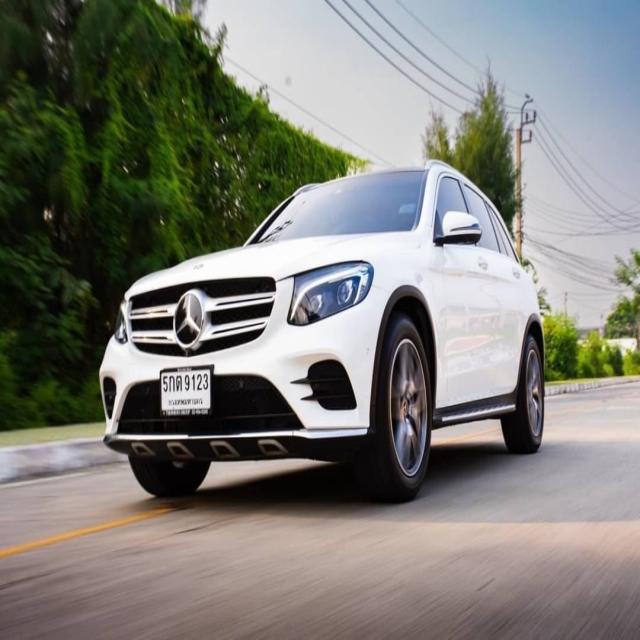license_plate: (159, 361, 214, 418)
